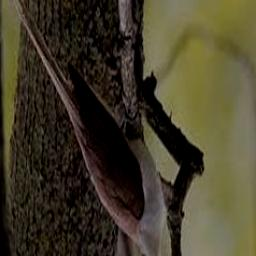Cuckoo: (6, 0, 165, 256)
